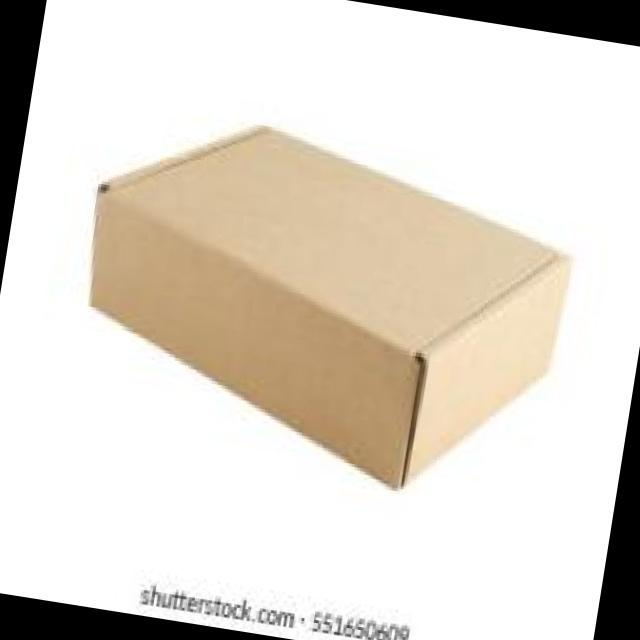box: (88, 122, 573, 494)
